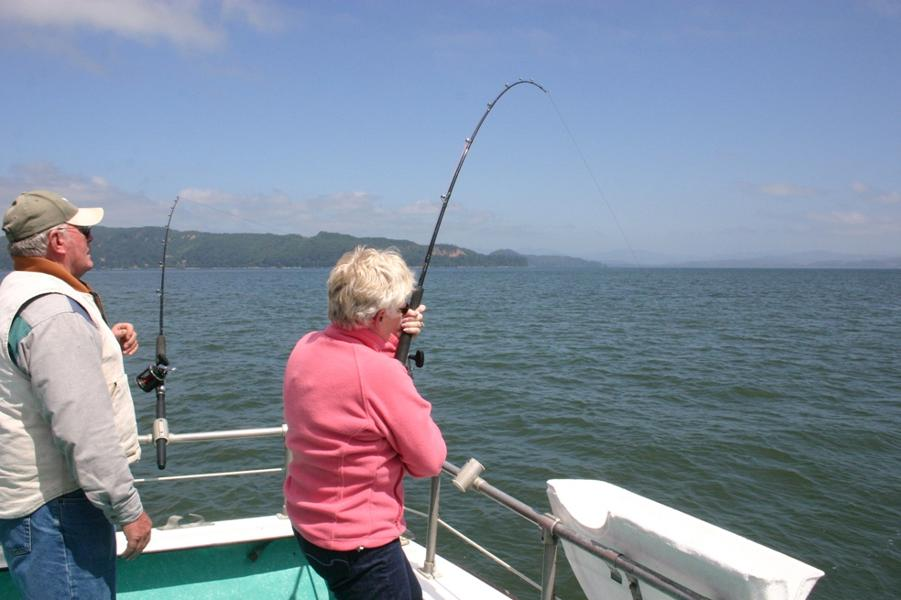person: (281, 245, 452, 600)
